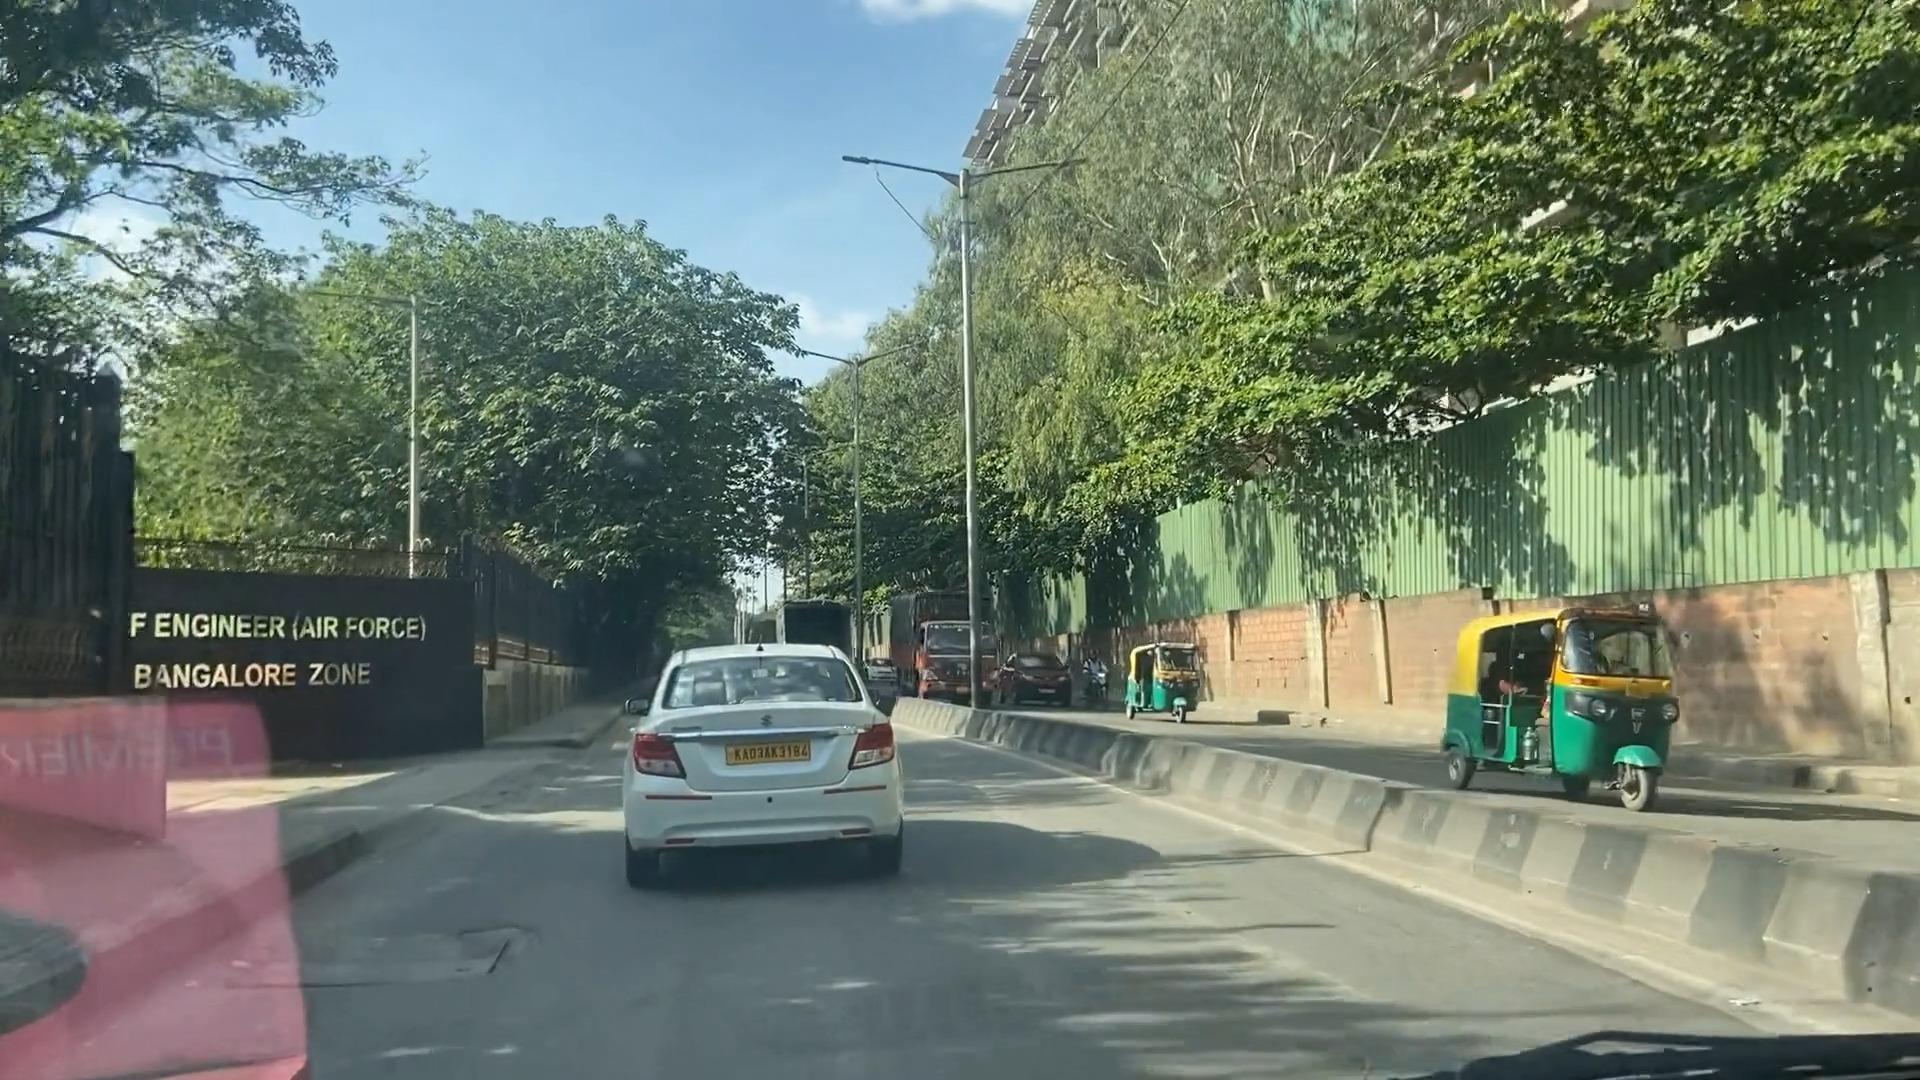RoadDamages: (202, 902, 559, 1021)
